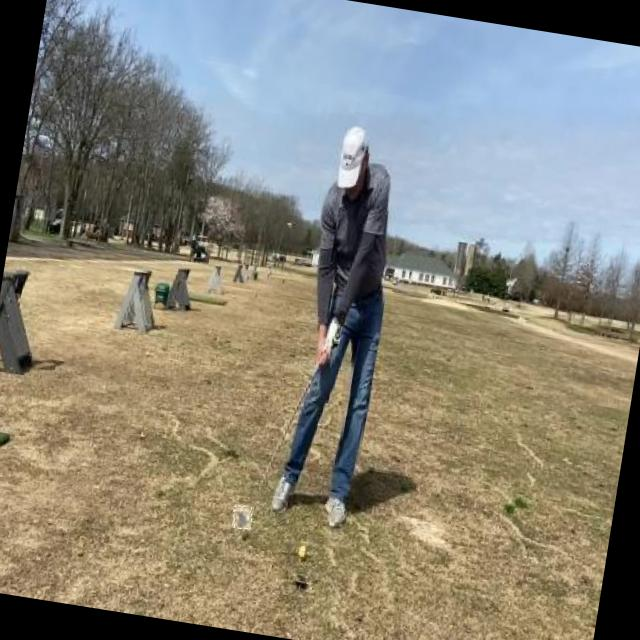club head: (232, 504, 254, 531)
